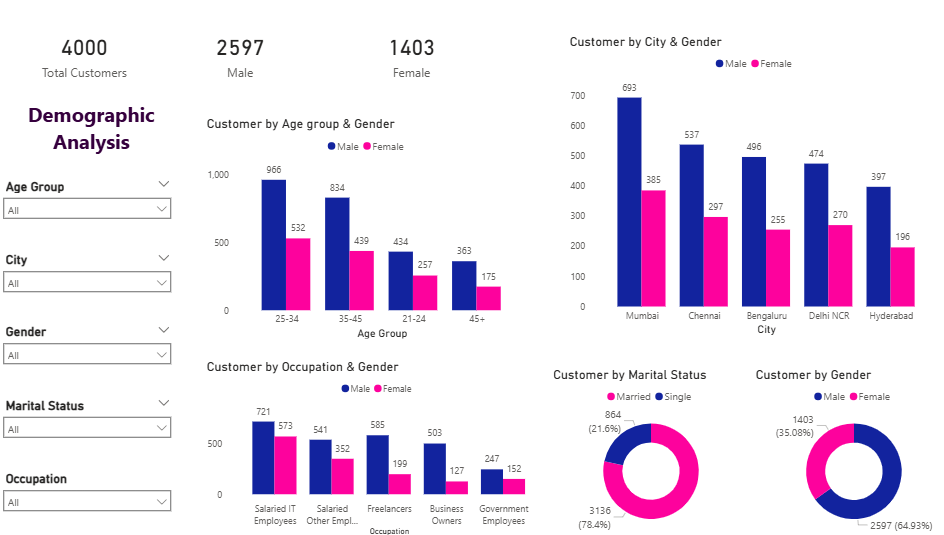

Layout of this report page (visuals, bound fields, positions):
{"tool":"powerbi","page":{"name":"Page 1","canvas":[1280,720],"ordinal":0},"visuals":[{"type":"clusteredColumnChart","title":"Customer by Age group & Gender","fields":{"Category":["dim_customers.age_group"],"Y":["CountNonNull(dim_customers.customer_id)"],"Series":["dim_customers.gender"]},"box":[275,155,438.3,301.7],"z":0},{"type":"donutChart","title":"Customer by Gender","fields":{"Y":["CountNonNull(dim_customers.customer_id)"],"Category":["dim_customers.gender"]},"box":[1008.5,489.1,271,230.2],"z":1000},{"type":"donutChart","title":"Customer by Marital Status","fields":{"Y":["CountNonNull(dim_customers.customer_id)"],"Category":["dim_customers.marital status"]},"box":[738,490,270,230],"z":2000},{"type":"clusteredColumnChart","title":"Customer by Occupation & Gender","fields":{"Category":["dim_customers.occupation"],"Y":["CountNonNull(dim_customers.customer_id)"],"Series":["dim_customers.gender"]},"box":[275,480,466.7,240],"z":3000},{"type":"clusteredColumnChart","title":"Customer by City & Gender","fields":{"Category":["dim_customers.city"],"Y":["CountNonNull(dim_customers.customer_id)"],"Series":["dim_customers.gender"]},"box":[760,45,505,406.7],"z":4000},{"type":"card","fields":{"Values":["dim_customers.Count of gender for Male"]},"box":[225.6,15.1,198.4,113.6],"z":5000},{"type":"card","title":"FEMALE","fields":{"Values":["dim_customers.Count of gender for Female"]},"box":[441.7,15,223.3,113.3],"z":6000},{"type":"slicer","fields":{"Values":["fact_spends.payment_type"]},"box":[0,233.3,243.3,85],"z":7000},{"type":"slicer","fields":{"Values":["dim_customers.city"]},"box":[0,331.7,243.3,85],"z":8000},{"type":"slicer","fields":{"Values":["dim_customers.gender"]},"box":[0,428.3,243.3,85],"z":9000},{"type":"slicer","fields":{"Values":["fact_spends.category"]},"box":[0,525,243.3,85],"z":10000},{"type":"slicer","fields":{"Values":["dim_customers.occupation"]},"box":[0,623.3,243.3,85],"z":11000},{"type":"card","fields":{"Values":["CountNonNull(dim_customers.customer_id)"]},"box":[10.6,15.1,215,113.6],"z":12000},{"type":"textbox","box":[10,130,234,104],"z":13000}]}

Visuals, with their boxes in screenshot pixels (x1, y1, x2, y2), scaled from the page's 1280x720 canvas onto the 944x535 screenshot:
"Customer by Age group & Gender" clusteredColumnChart: Rect(203, 115, 526, 339)
"Customer by Gender" donutChart: Rect(744, 363, 943, 534)
"Customer by Marital Status" donutChart: Rect(544, 364, 743, 534)
"Customer by Occupation & Gender" clusteredColumnChart: Rect(203, 357, 547, 534)
"Customer by City & Gender" clusteredColumnChart: Rect(560, 33, 933, 336)
card - dim_customers.Count of gender for Male: Rect(166, 11, 313, 96)
"FEMALE" card: Rect(326, 11, 490, 95)
slicer - fact_spends.payment_type: Rect(0, 173, 179, 237)
slicer - dim_customers.city: Rect(0, 246, 179, 310)
slicer - dim_customers.gender: Rect(0, 318, 179, 381)
slicer - fact_spends.category: Rect(0, 390, 179, 453)
slicer - dim_customers.occupation: Rect(0, 463, 179, 526)
card - CountNonNull(dim_customers.customer_id): Rect(8, 11, 166, 96)
textbox: Rect(7, 97, 180, 174)
